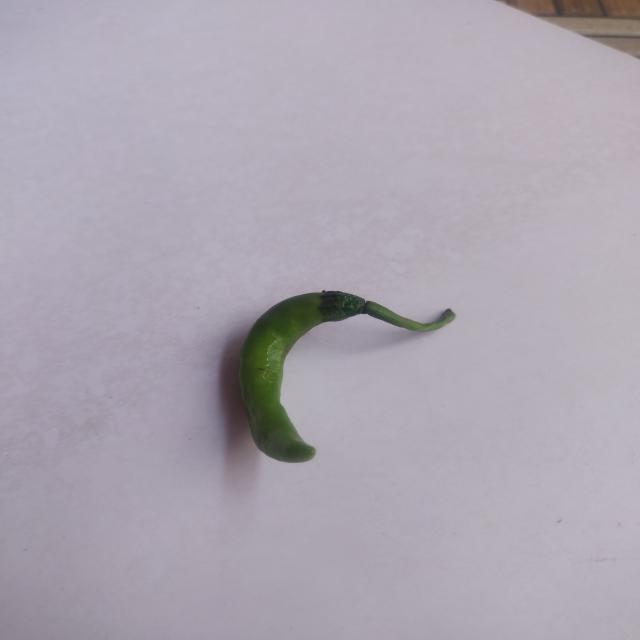Green Chilly: (189, 266, 474, 474)
